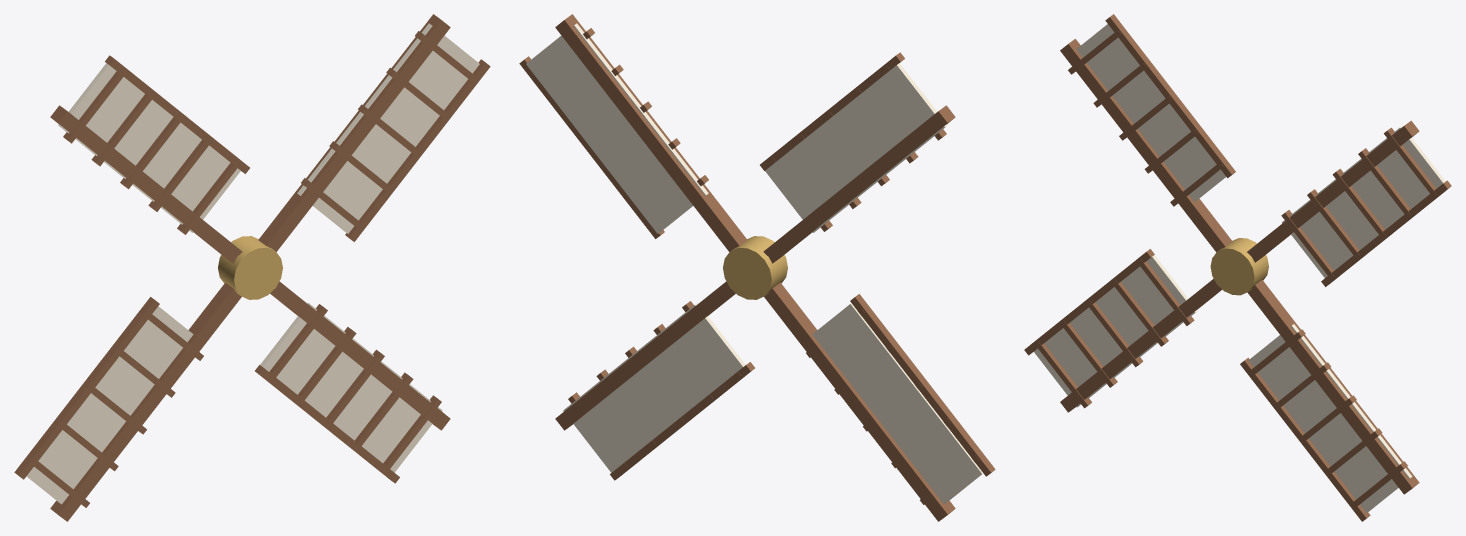
Rendered from windmill-sails.glb.
3 renders of one model, left to right at view 1: azimuth 30°, elevation 25°; view 2: azimuth 150°, elevation 25°; view 3: azimuth 330°, elevation 25°, orthographic. The views are drawn at different scales.
Visible parts, largest first — view 1: wood, trim, gold; view 2: trim, wood, gold; view 3: wood, trim, gold.
Boxes of the visible parts, x1,y1,x2,y2 form: wood: (14,14,490,521); trim: (26,23,479,504); gold: (218,236,282,299); trim: (526,23,983,504); wood: (519,14,995,521); gold: (723,236,787,299); wood: (1024,14,1451,521); trim: (1034,24,1445,512); gold: (1210,238,1268,295).
Bounding box in the file's own units: 5.39 × 5.39 × 0.32.
